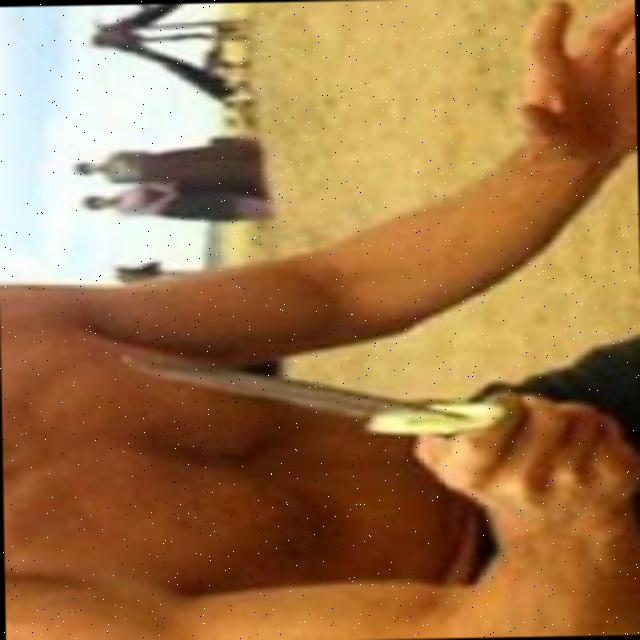Knife: (106, 342, 486, 442)
